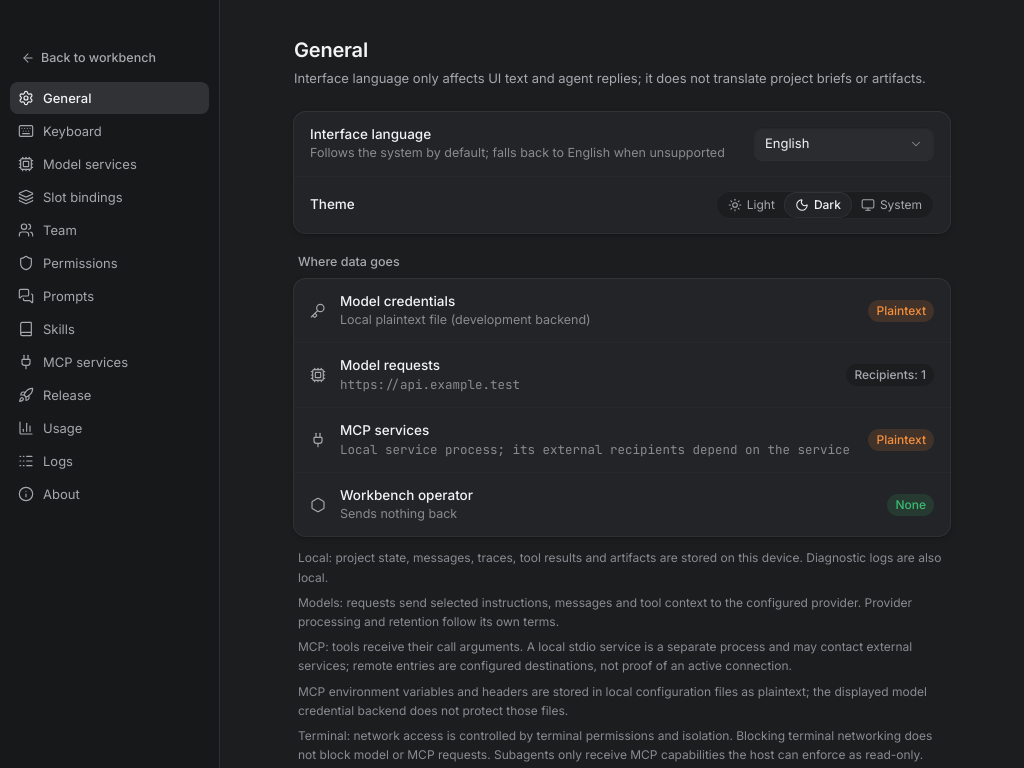
keeps loading visible and rejects a late file/tree response after selecting another skill
Click the button "Skills".
click(110, 329)  # box x1=10 y1=313 x2=209 y2=345
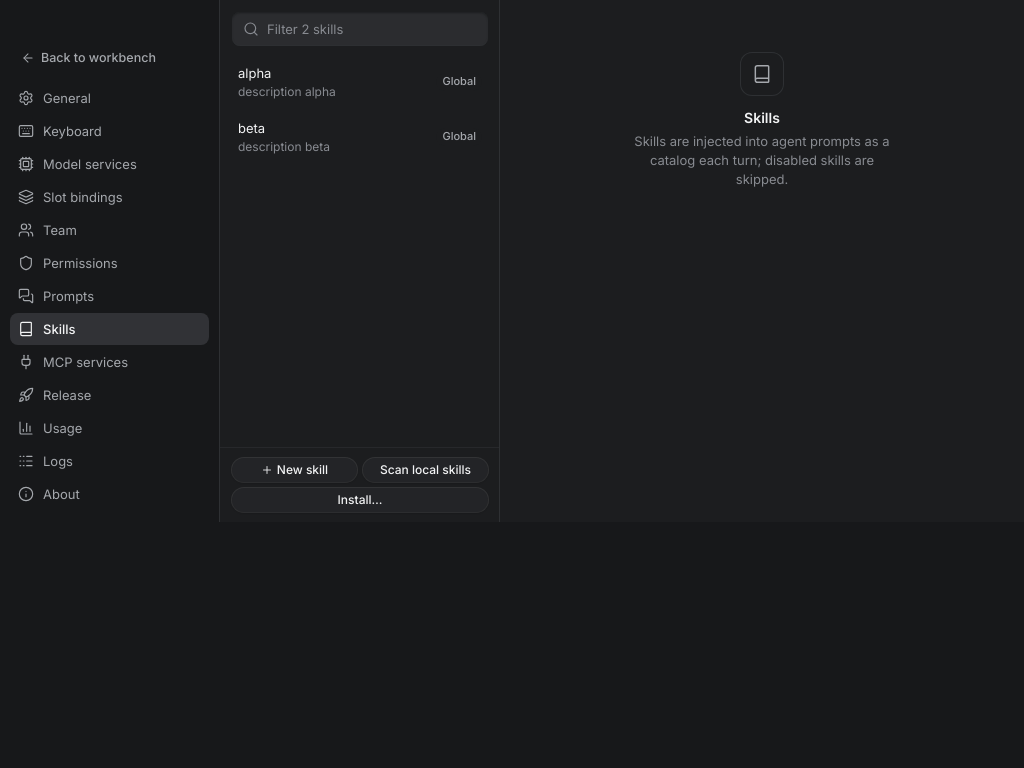
Expected: the option "alpha description alpha Global" is shown
Click the option "alpha description alpha Global".
click(255, 73)  # box x1=228 y1=55 x2=492 y2=109
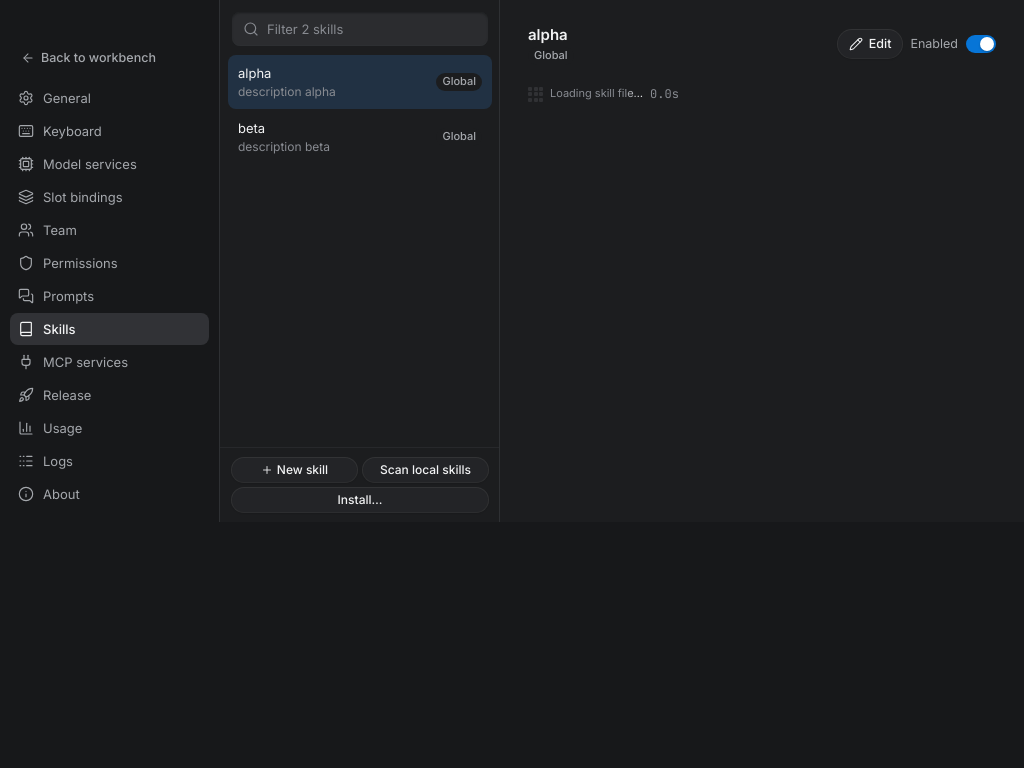
Expected: the option "beta description beta Global" is shown
Expected: the text "Loading skill file…" is shown, x1=550 y1=86 x2=643 y2=102
Click the option "beta description beta Global".
click(284, 147)  # box x1=228 y1=110 x2=492 y2=164
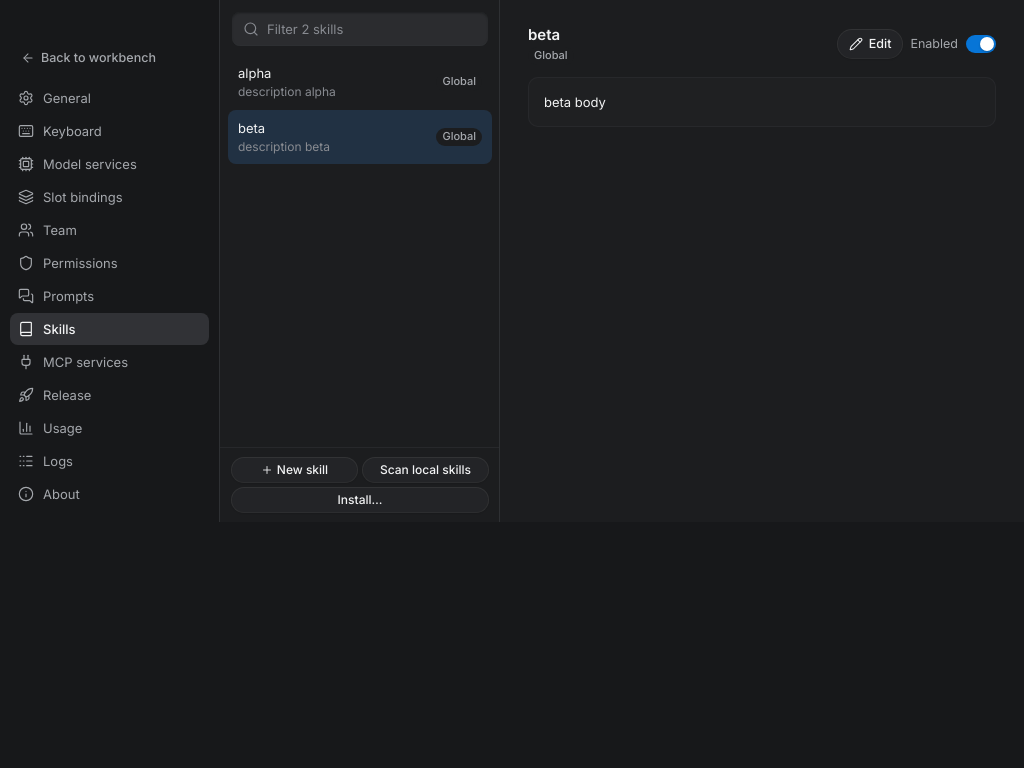
Expected: the text "beta body" is shown, x1=544 y1=94 x2=606 y2=110
